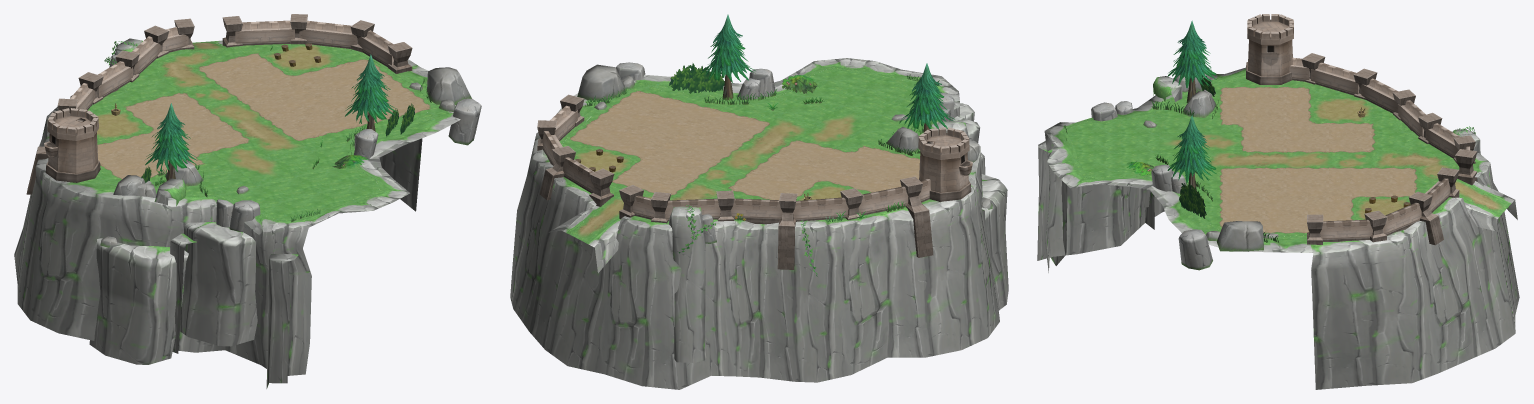
Rendered from gro001_03.fbx.
3 views of the same model, side by side, from view 1: azimuth 30°, elevation 25°; view 2: azimuth 150°, elevation 25°; view 3: azimuth 270°, elevation 25° (orthographic). The views are drawn at different scales.
Parts seen in each view (by area): view 1: stage, obj, mat, ap; view 2: stage, obj, mat, ap; view 3: stage, obj, mat, ap.
Part boxes in pixels (x1=…): stage: x1=14, y1=40, x2=460, y2=388; obj: x1=26, y1=14, x2=481, y2=247; mat: x1=97, y1=55, x2=426, y2=178; ap: x1=90, y1=41, x2=432, y2=222; stage: x1=510, y1=58, x2=1008, y2=389; obj: x1=537, y1=62, x2=992, y2=362; mat: x1=574, y1=92, x2=919, y2=199; ap: x1=570, y1=14, x2=954, y2=276; stage: x1=1037, y1=67, x2=1519, y2=389; obj: x1=1091, y1=14, x2=1484, y2=270; mat: x1=1223, y1=88, x2=1413, y2=231; ap: x1=1064, y1=20, x2=1475, y2=242.
Size of the model in its own units: 2211 by 1220 by 2273.
